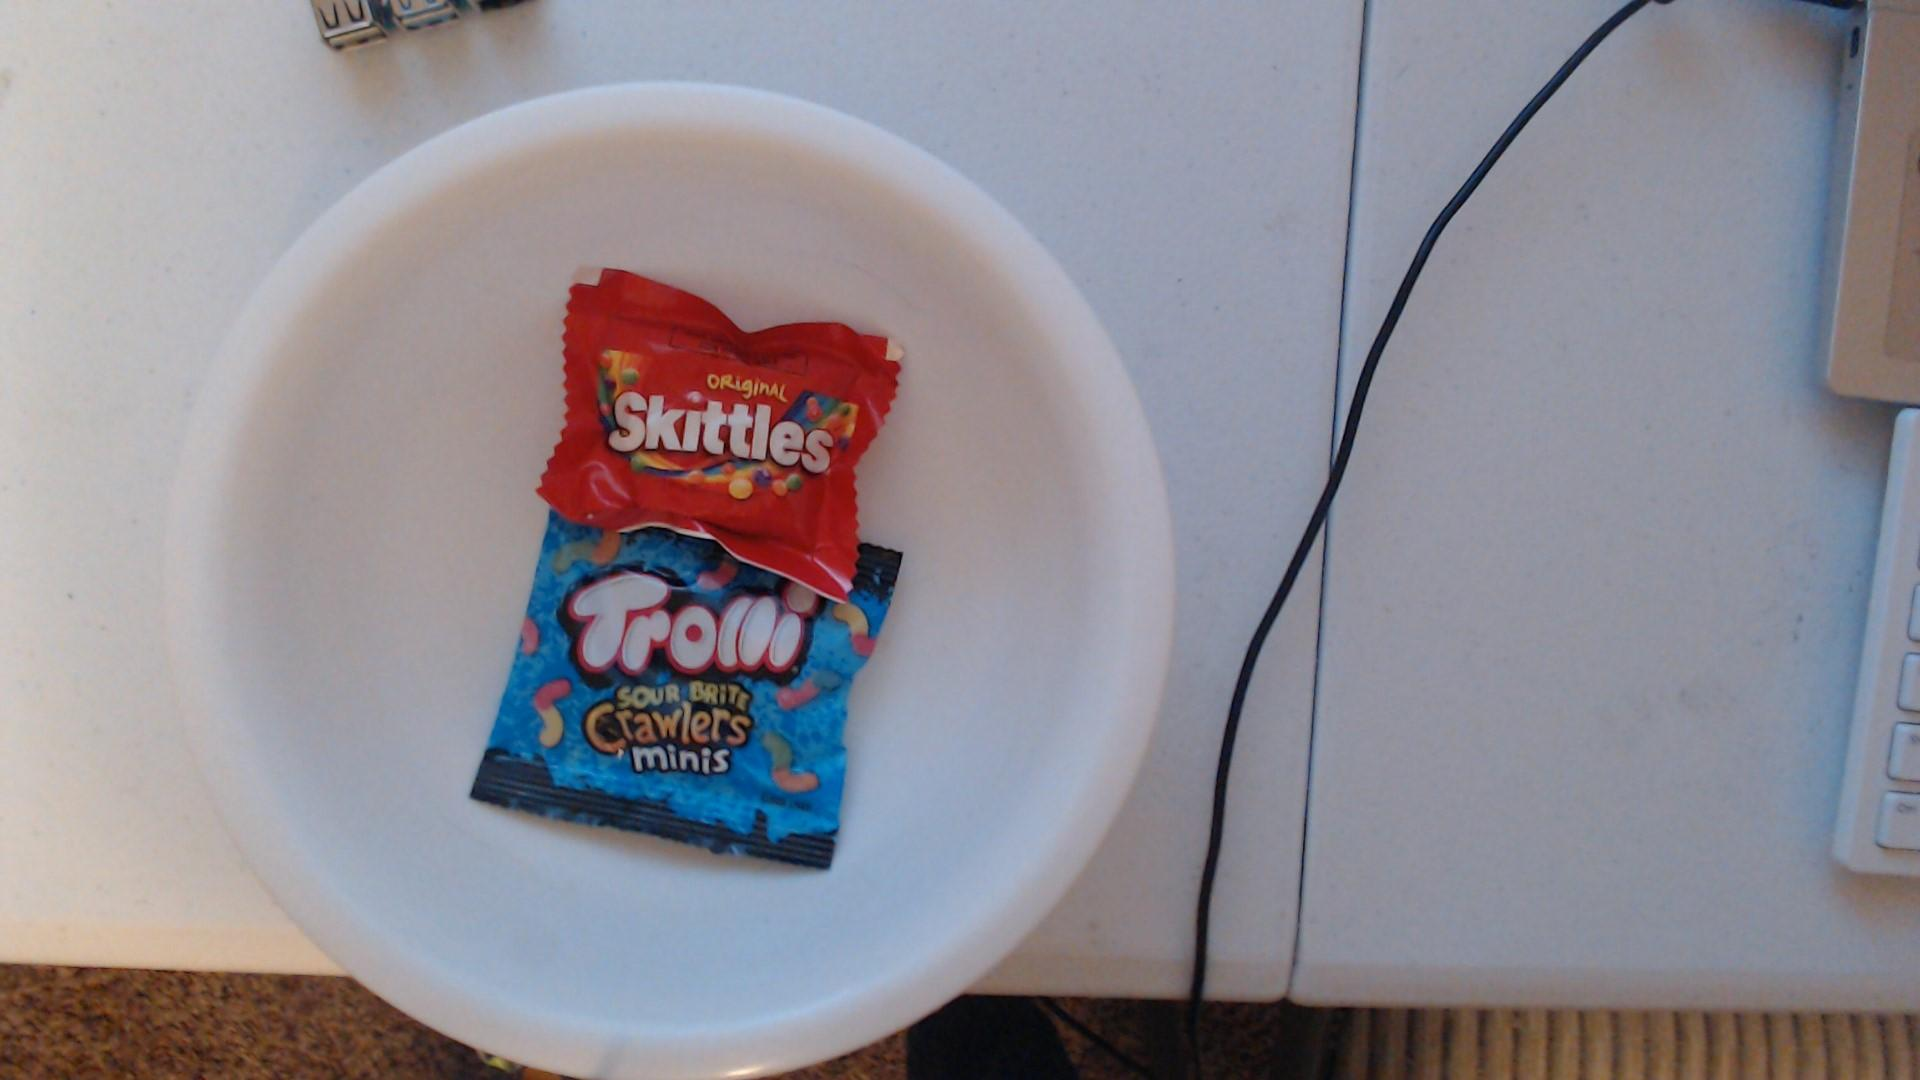Trolli: (471, 513, 905, 868)
skittles: (535, 266, 903, 603)
